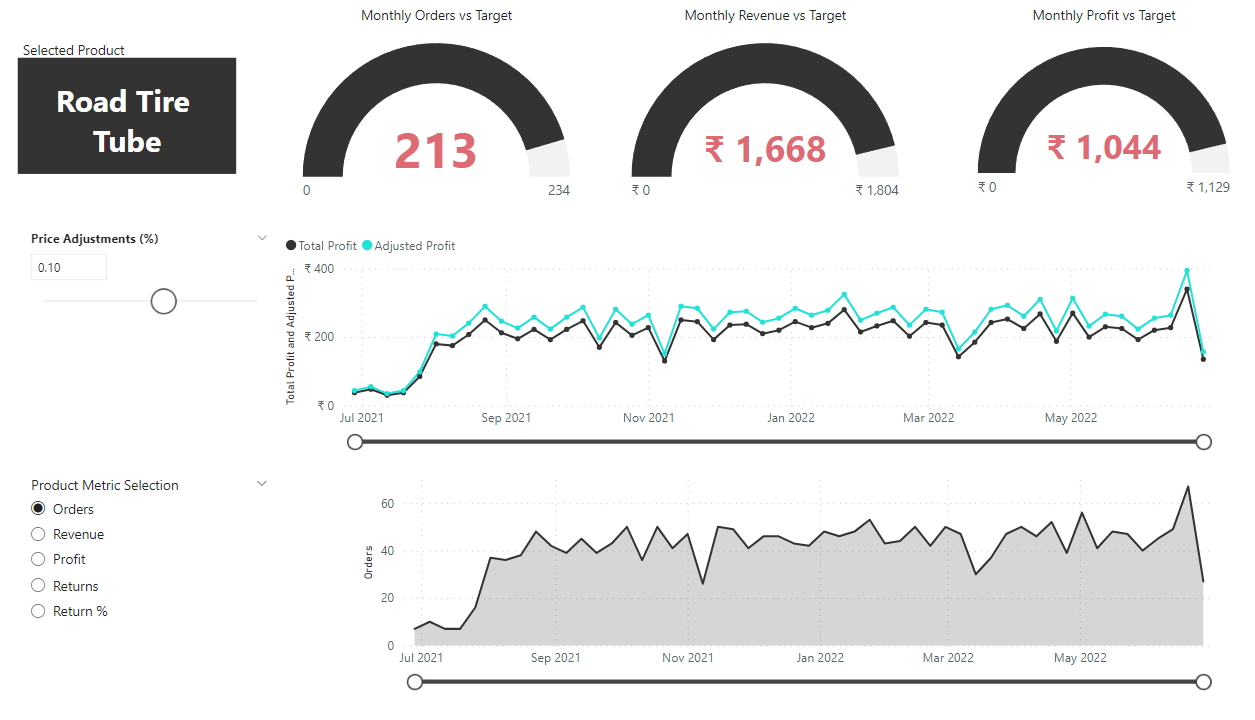

Layout of this report page (visuals, bound fields, positions):
{"tool":"powerbi","page":{"name":"Product Detail","canvas":[1280,720],"ordinal":2},"visuals":[{"type":"shape","box":[0,0,45,720],"z":0},{"type":"actionButton","box":[0,421.7,45.2,40.3],"z":0,"group":"g1"},{"type":"gauge","title":"Monthly Orders vs Target","fields":{"Y":["Measure Table.Total Orders"],"MaxValue":["Measure Table.Order Target"]},"box":[341.1,11,271.4,215.1],"z":1000},{"type":"gauge","title":"Monthly Profit vs Target","fields":{"Y":["Measure Table.Total Profit"],"MaxValue":["Measure Table.Profit Target"]},"box":[1001.2,11,256.7,215.1],"z":2000},{"type":"actionButton","box":[0,548,45.2,40.3],"z":2000,"group":"g1"},{"type":"gauge","title":"Monthly Revenue vs Target","fields":{"Y":["Measure Table.Total Revenue"],"MaxValue":["Measure Table.Revenue Target"]},"box":[662.5,11,271.4,215.1],"z":3000},{"type":"actionButton","box":[0,548,45.2,40.3],"z":3000,"group":"g1"},{"type":"actionButton","box":[0,484.9,45.2,40.3],"z":4000,"group":"g1"},{"type":"lineChart","title":"Profit Trending","fields":{"Category":["Calendar Lookup.Date Hierarchy.Start of Year","Calendar Lookup.Date Hierarchy.Start of Month","Calendar Lookup.Date Hierarchy.Start of Week","Calendar Lookup.Date Hierarchy.Date"],"Y":["Measure Table.Total Profit","Measure Table.Adjusted Profit"]},"box":[323.9,226.1,933.9,222.5],"z":4000},{"type":"actionButton","box":[0,484.9,45.2,40.3],"z":5000,"group":"g1"},{"type":"areaChart","title":"Returns Trending","fields":{"Y":["Measure Table.Total Orders"],"Category":["Calendar Lookup.Date Hierarchy.Start of Year","Calendar Lookup.Date Hierarchy.Start of Month","Calendar Lookup.Date Hierarchy.Start of Week","Calendar Lookup.Date Hierarchy.Date"]},"box":[399.7,460.8,858.1,222.5],"z":5000},{"type":"card","fields":{"Values":["Min(Product Lookup.ProductName)"]},"box":[67.2,62.3,213.9,113.7],"z":6000},{"type":"actionButton","box":[0,611.2,45.2,40.3],"z":6000,"group":"g1"},{"type":"textbox","box":[67.2,40.3,213.9,45.2],"z":7000},{"type":"actionButton","box":[0,611.2,45.2,40.3],"z":7000,"group":"g1"},{"type":"group","id":"g1","title":"Navigation Buttons","box":[0,421.7,45.2,229.8],"z":8000},{"type":"slicer","fields":{"Values":["Price Adjustments (%).Price Adjustments (%)"]},"box":[67.2,226.1,256.7,111.2],"z":9000},{"type":"slicer","fields":{"Values":["Product Metric Selection.Product Metric Selection"]},"box":[67.2,465.7,256.7,205.4],"z":10000}]}

Visuals, with their boxes in screenshot pixels (x1, y1, x2, y2), scaled from the page's 1280x720 canvas onto the 1255x720 screenshot:
shape: 0, 0, 44, 719
actionButton: 0, 422, 44, 462
"Monthly Orders vs Target" gauge: 334, 11, 601, 226
"Monthly Profit vs Target" gauge: 982, 11, 1233, 226
actionButton: 0, 548, 44, 588
"Monthly Revenue vs Target" gauge: 650, 11, 916, 226
actionButton: 0, 548, 44, 588
actionButton: 0, 485, 44, 525
"Profit Trending" lineChart: 318, 226, 1233, 449
actionButton: 0, 485, 44, 525
"Returns Trending" areaChart: 392, 461, 1233, 683
card - Min(Product Lookup.ProductName): 66, 62, 276, 176
actionButton: 0, 611, 44, 652
textbox: 66, 40, 276, 86
actionButton: 0, 611, 44, 652
"Navigation Buttons" group: 0, 422, 44, 652
slicer - Price Adjustments (%).Price Adjustments (%): 66, 226, 318, 337
slicer - Product Metric Selection.Product Metric Selection: 66, 466, 318, 671
